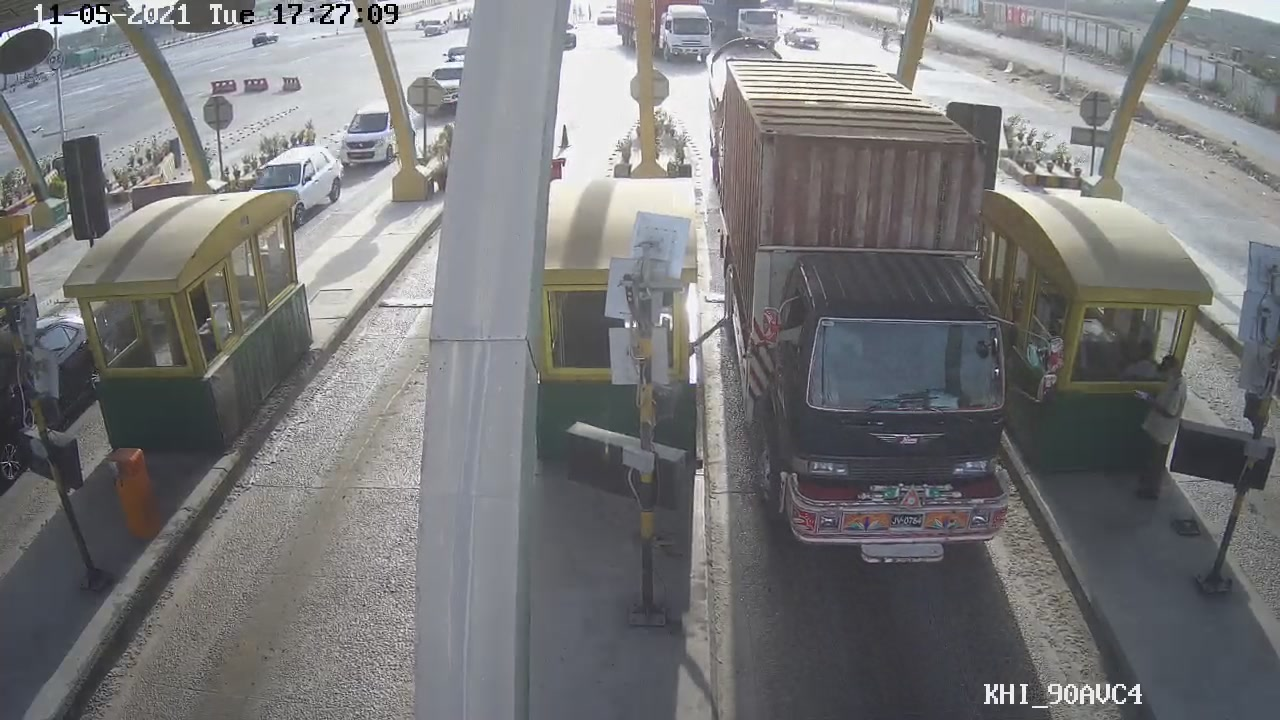F6: (719, 44, 1007, 582)
